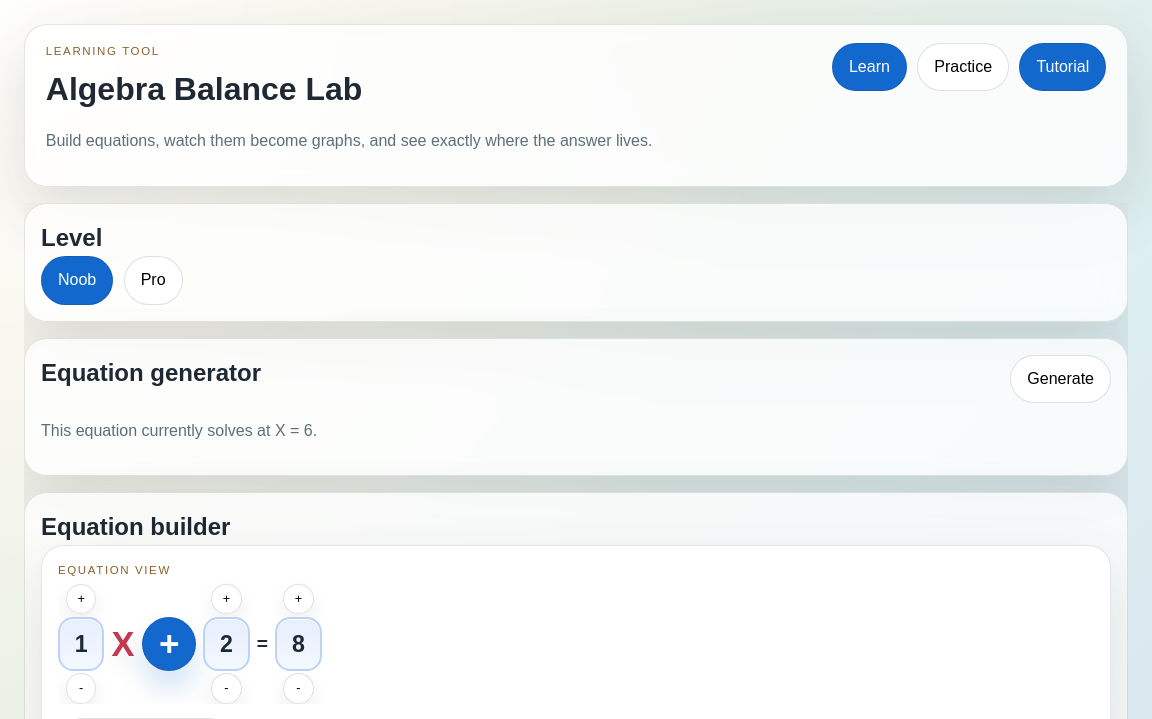
Scenario: Algebra Balance Lab › opens the tutorial
What coordinates should you click on to do the following:
click the button "Tutorial"
I would click on:
 (1063, 67)
Its box is [1019,43,1106,91].
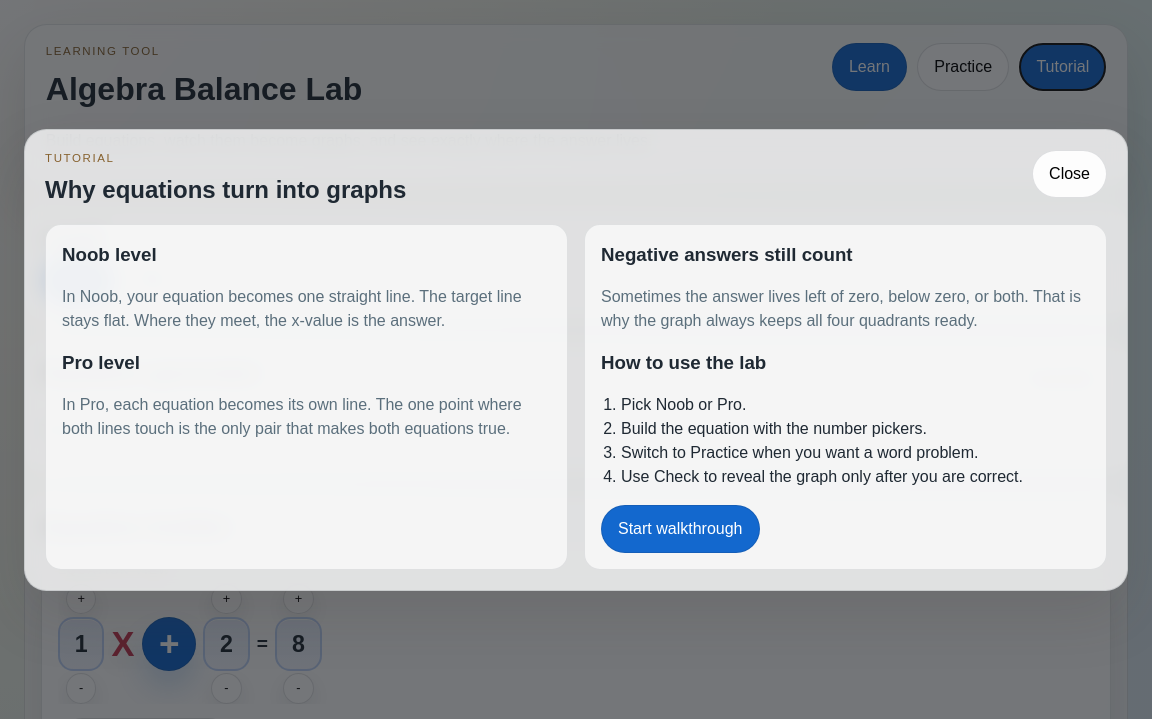
Expected: the dialog "Why equations turn into graphs" is shown
